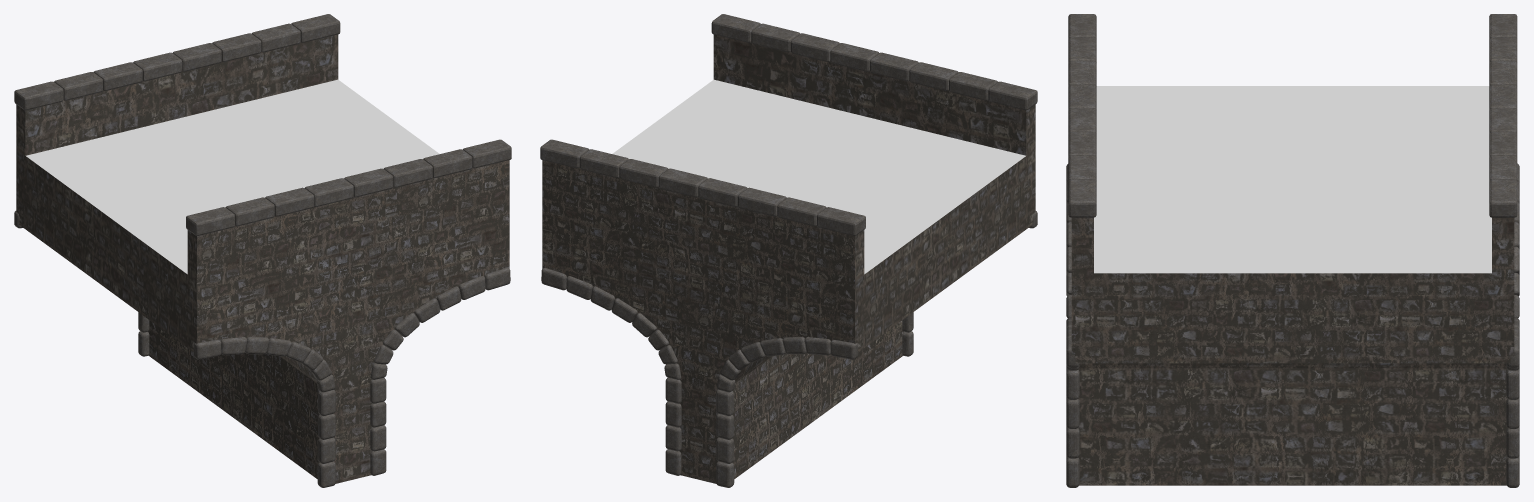
The model's file is StoneBridge.fbx.
3 views of the same model, side by side, from view 1: azimuth 30°, elevation 25°; view 2: azimuth 150°, elevation 25°; view 3: azimuth 270°, elevation 25° (orthographic). The views are drawn at different scales.
Parts seen in each view (by area): view 1: Stone Bridge; view 2: Stone Bridge; view 3: Stone Bridge.
Boxes of the visible parts, left/top/right/bottom form: Stone Bridge: left=14, top=14, right=511, bottom=487; Stone Bridge: left=540, top=14, right=1037, bottom=487; Stone Bridge: left=1066, top=14, right=1519, bottom=487.
Size of the model in its own units: 490 by 438 by 496.
